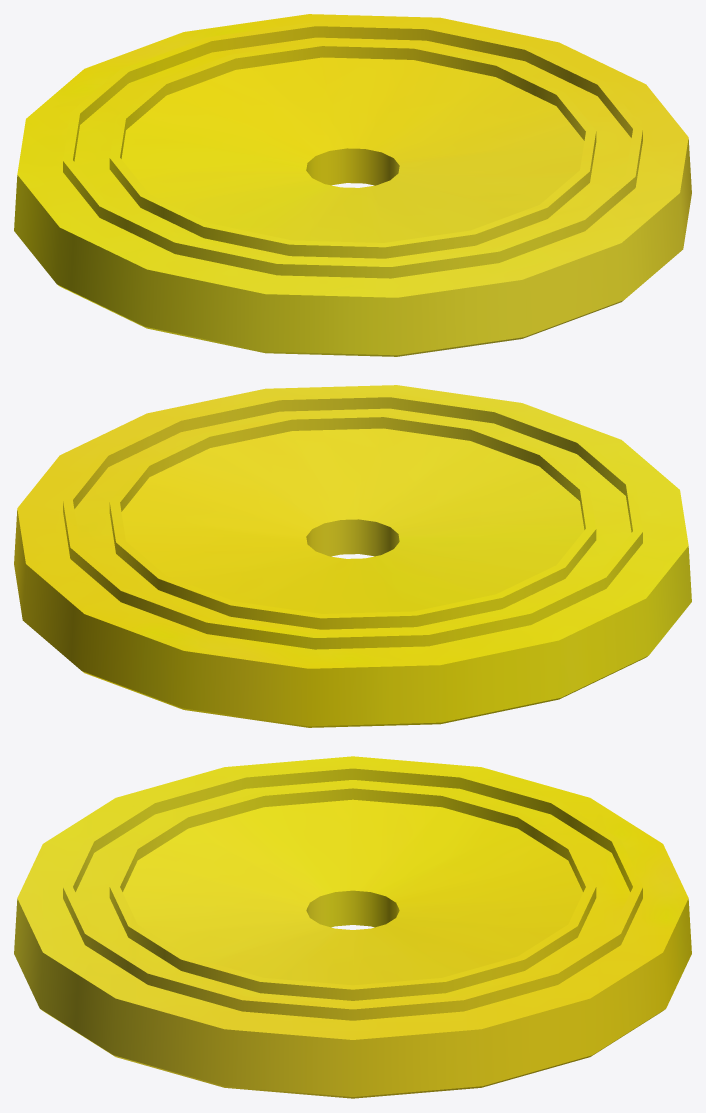
The model's file is weight25.fbx.
The picture shows the model from 3 angles, top to bottom: view 1: azimuth 30°, elevation 25°; view 2: azimuth 150°, elevation 25°; view 3: azimuth 270°, elevation 25°; orthographic projection.
Visible parts, largest first — view 1: polySurface7; view 2: polySurface7; view 3: polySurface7.
Part boxes in pixels (bbox=[...]): polySurface7: bbox=[14, 14, 691, 356]; polySurface7: bbox=[14, 385, 691, 727]; polySurface7: bbox=[14, 756, 691, 1098].
Size of the model in its own units: 542 by 71.58 by 542.
